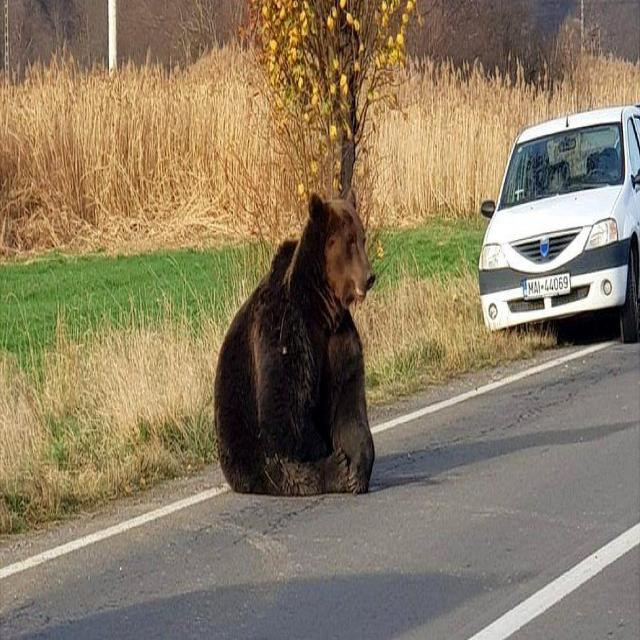Bear: (212, 196, 376, 499)
